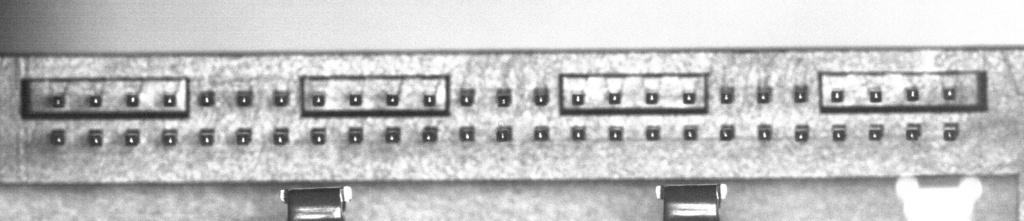pin_ok: (942, 122, 960, 141), (905, 123, 922, 141), (198, 128, 215, 146), (496, 88, 512, 107), (533, 86, 549, 105), (198, 90, 215, 107), (49, 128, 66, 145), (236, 89, 253, 106), (161, 129, 178, 146), (384, 126, 401, 143), (459, 87, 475, 105), (236, 127, 252, 145), (421, 126, 439, 142), (273, 89, 289, 106), (831, 124, 847, 141), (868, 124, 884, 141), (794, 125, 810, 142), (273, 128, 289, 145), (124, 129, 140, 146), (756, 87, 772, 103), (347, 127, 363, 143), (533, 125, 549, 141), (310, 128, 326, 144), (459, 126, 475, 142), (720, 86, 735, 103), (88, 129, 103, 146), (793, 85, 808, 102), (495, 126, 512, 141), (757, 124, 772, 141), (720, 124, 735, 140), (571, 125, 586, 141), (905, 86, 920, 101), (645, 125, 660, 140), (683, 125, 698, 140), (608, 126, 624, 140), (385, 92, 400, 106), (348, 92, 363, 106), (607, 90, 622, 104), (644, 90, 659, 104), (571, 91, 585, 106), (125, 93, 139, 107), (162, 93, 176, 107), (942, 86, 956, 100), (682, 90, 696, 104), (51, 95, 66, 108), (87, 94, 101, 107), (311, 93, 325, 106), (423, 92, 436, 106), (869, 88, 882, 102), (830, 89, 844, 102)
